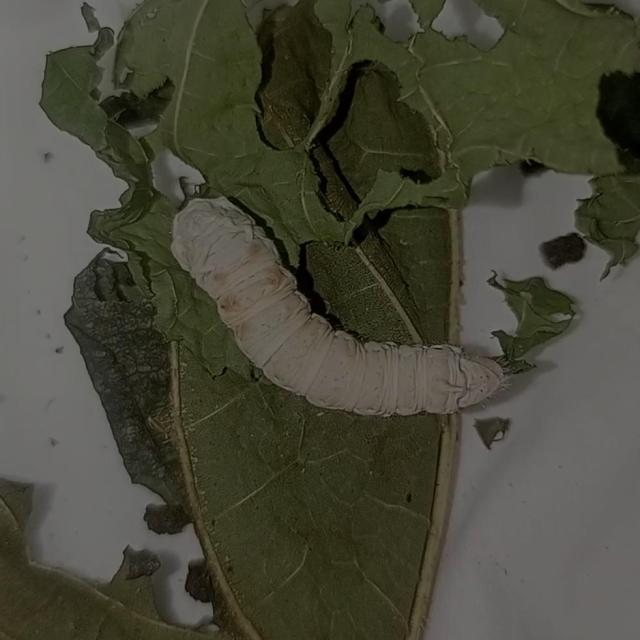Healthy: (162, 182, 528, 420)
